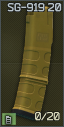PP-19-01 Vityaz-SN 9x19 PUFGUN SG-919 20 20-round magazine: (0, 0, 64, 127)
